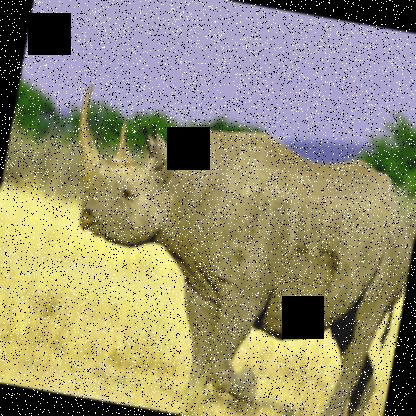Diceros bicornis: (32, 79, 415, 415)
